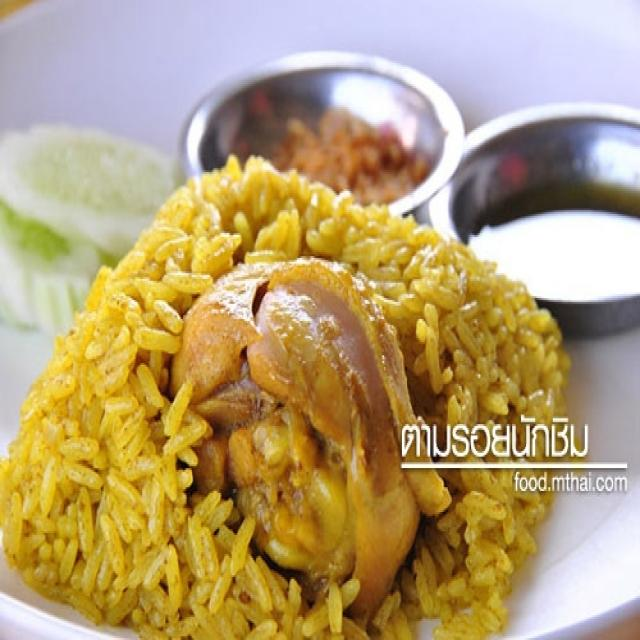米饭主食: (1, 15, 634, 627)
